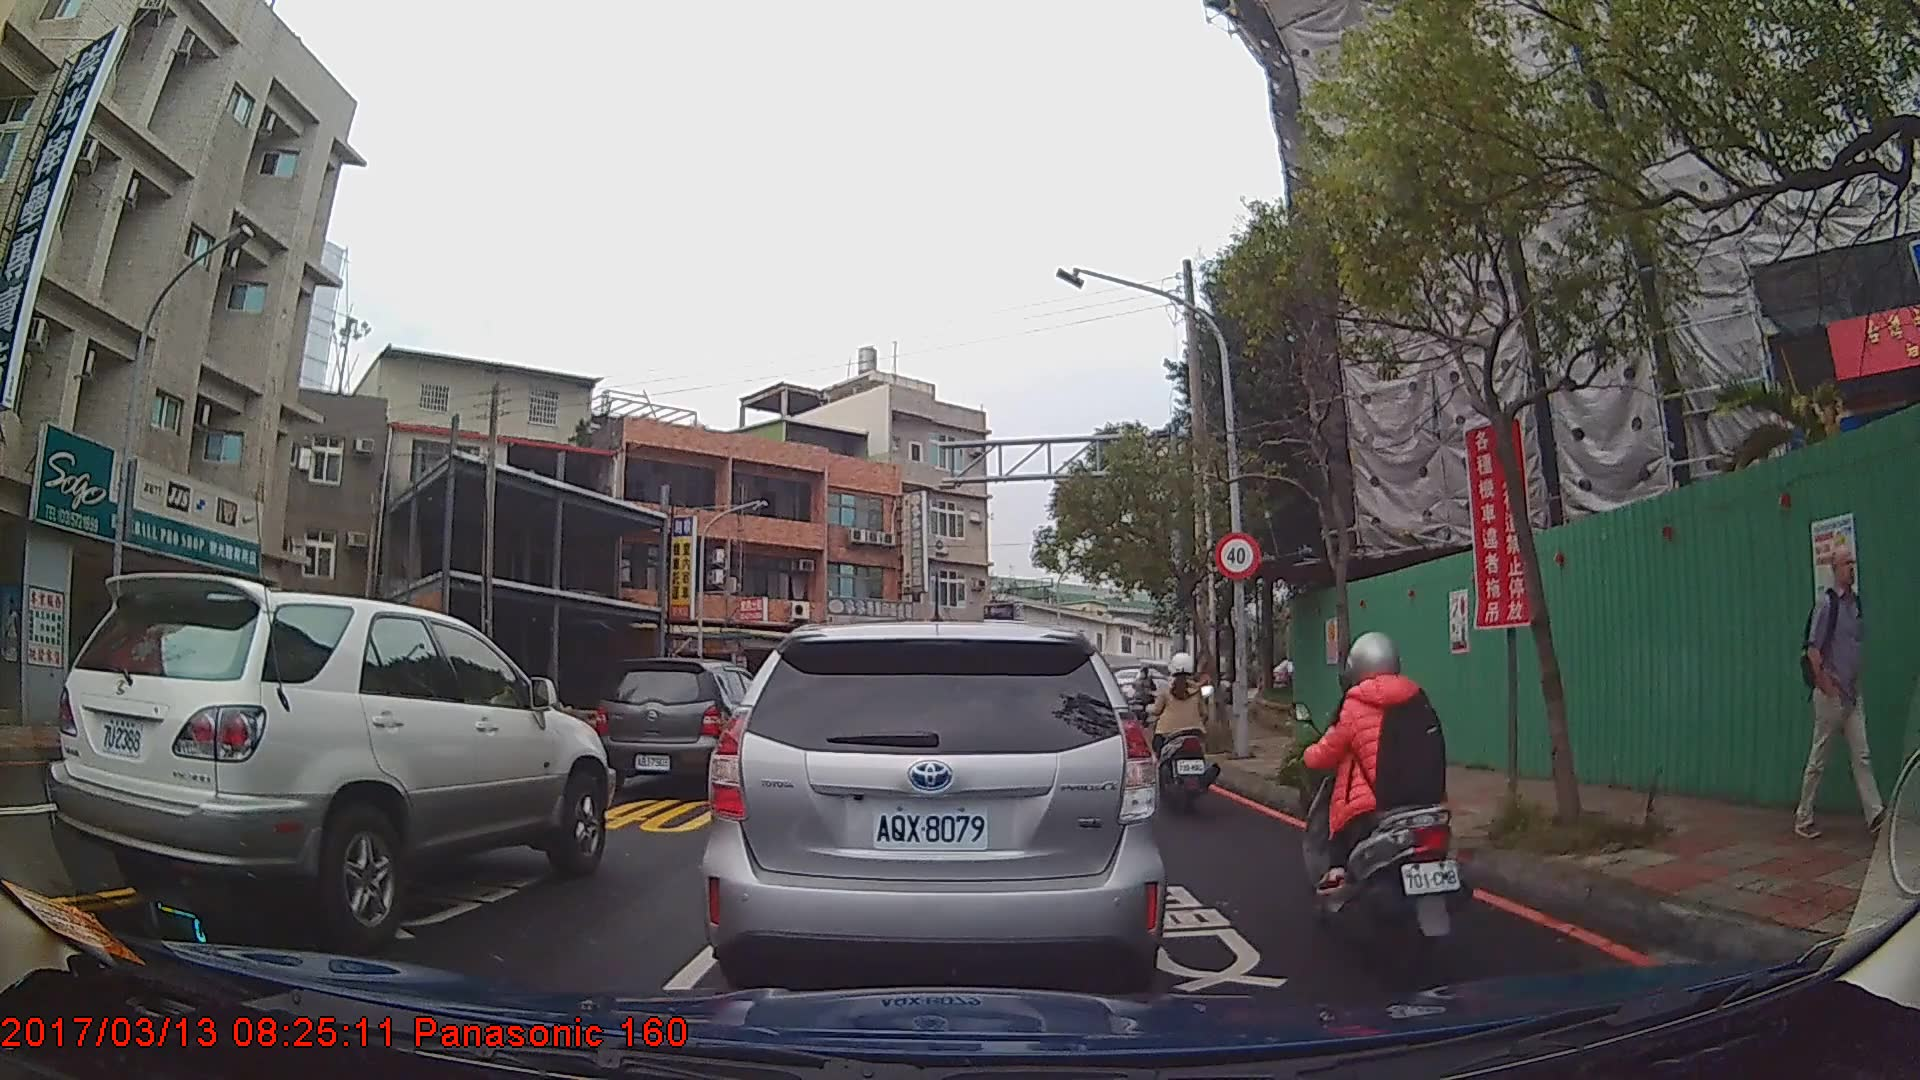pedestrian: (1792, 541, 1881, 841)
rider: (1300, 632, 1477, 974), (1151, 651, 1216, 807), (1131, 663, 1157, 727)
vehicle: (48, 570, 612, 946), (700, 617, 1167, 1003), (594, 656, 782, 792)
